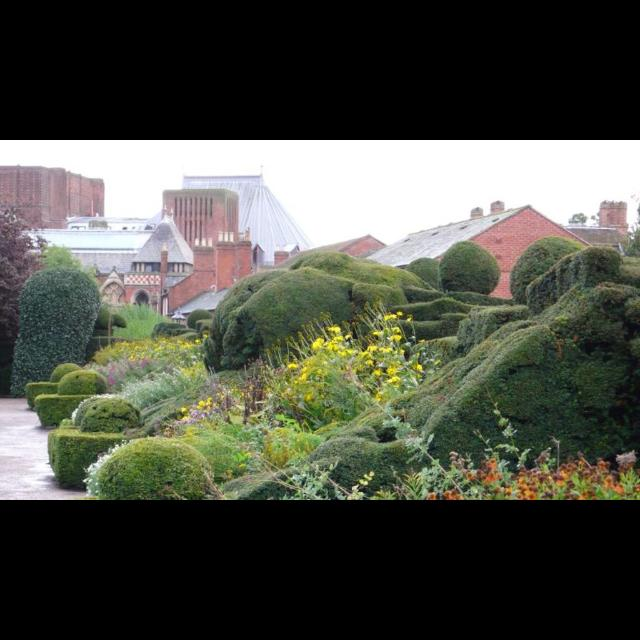Flower: (158, 313, 434, 472), (74, 332, 214, 423), (426, 451, 638, 499), (83, 437, 129, 497), (314, 339, 330, 348)
